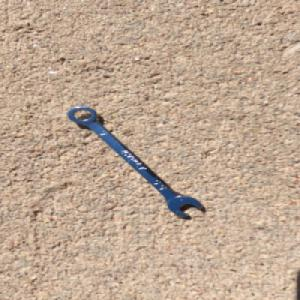Wrench: (65, 103, 206, 218)
